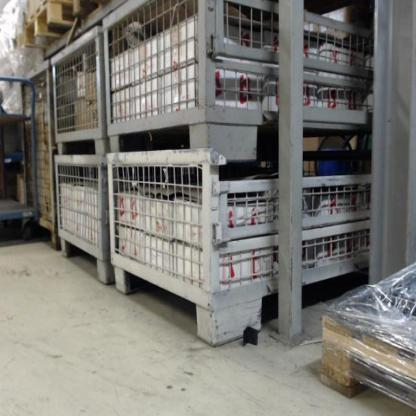pallet: (319, 313, 416, 412), (24, 0, 81, 49)
stillage: (104, 142, 374, 348), (103, 2, 375, 159), (51, 148, 108, 283), (20, 57, 58, 251), (51, 24, 103, 159)
